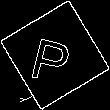P_N: (31, 26, 79, 84)
